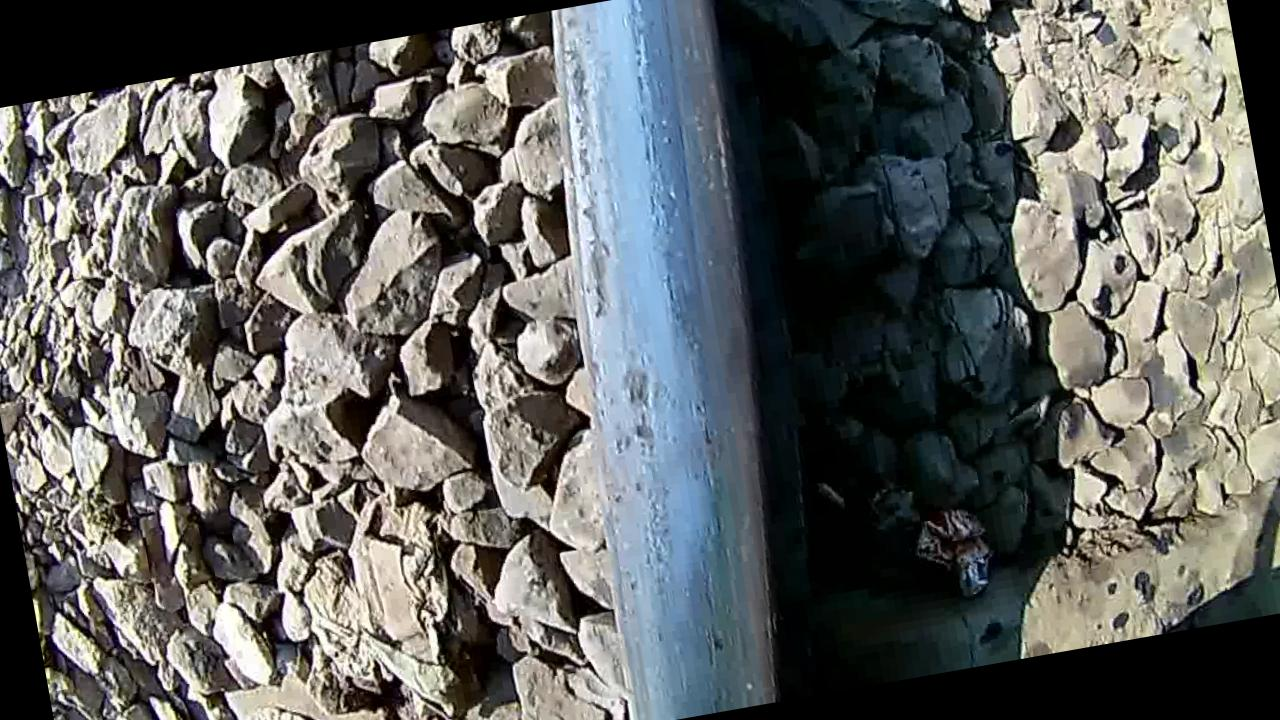crack: (528, 0, 821, 720)
